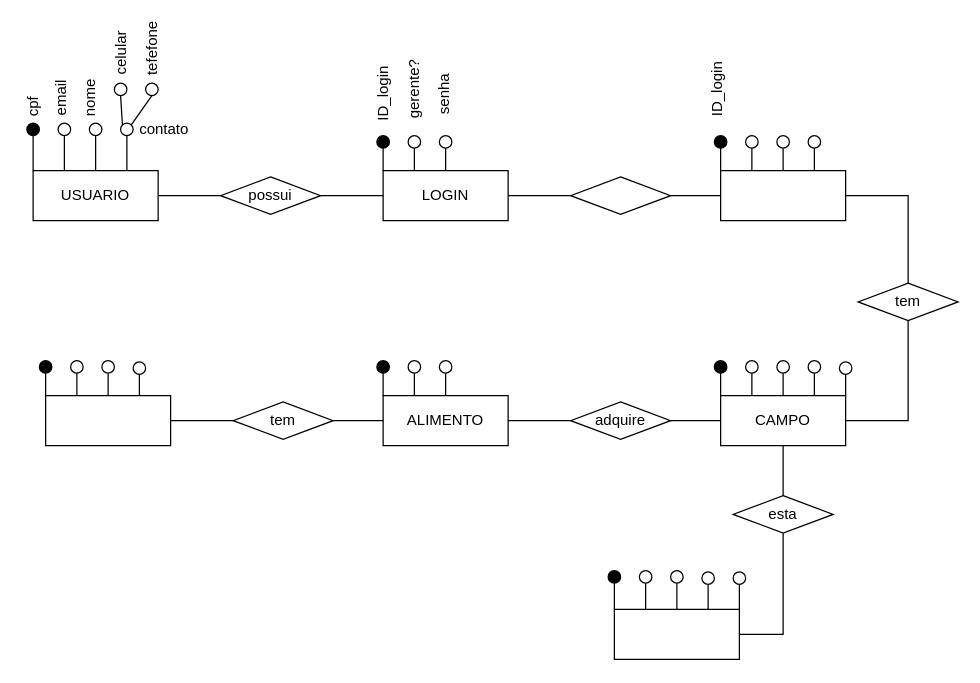
Some shapes in this 980 by 683 pixel diagram are drawn without their labels. The centre of each missing label's shape, as x and y in pixels:
"CRT_ALIMENTO" goes at (107,420).
"LOCALIZACAO" goes at (676,633).
"SITUACAO" goes at (782,195).
"visualiza" goes at (620,195).
